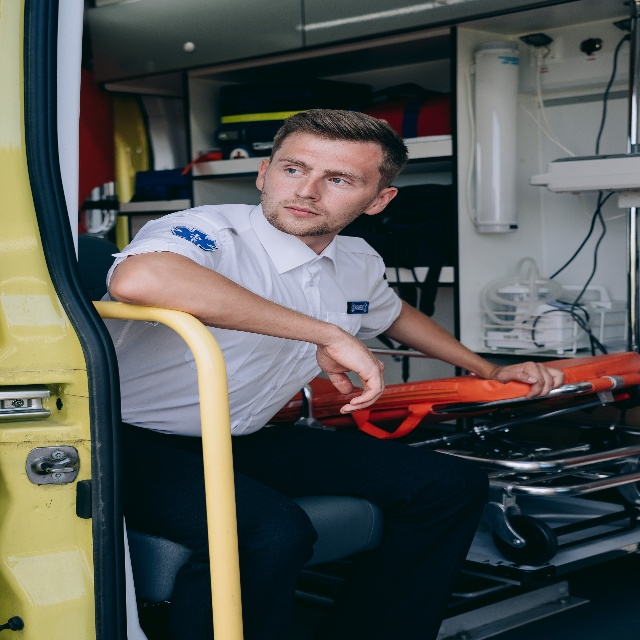Sin_guantes: (317, 328, 383, 413), (493, 355, 565, 397)
